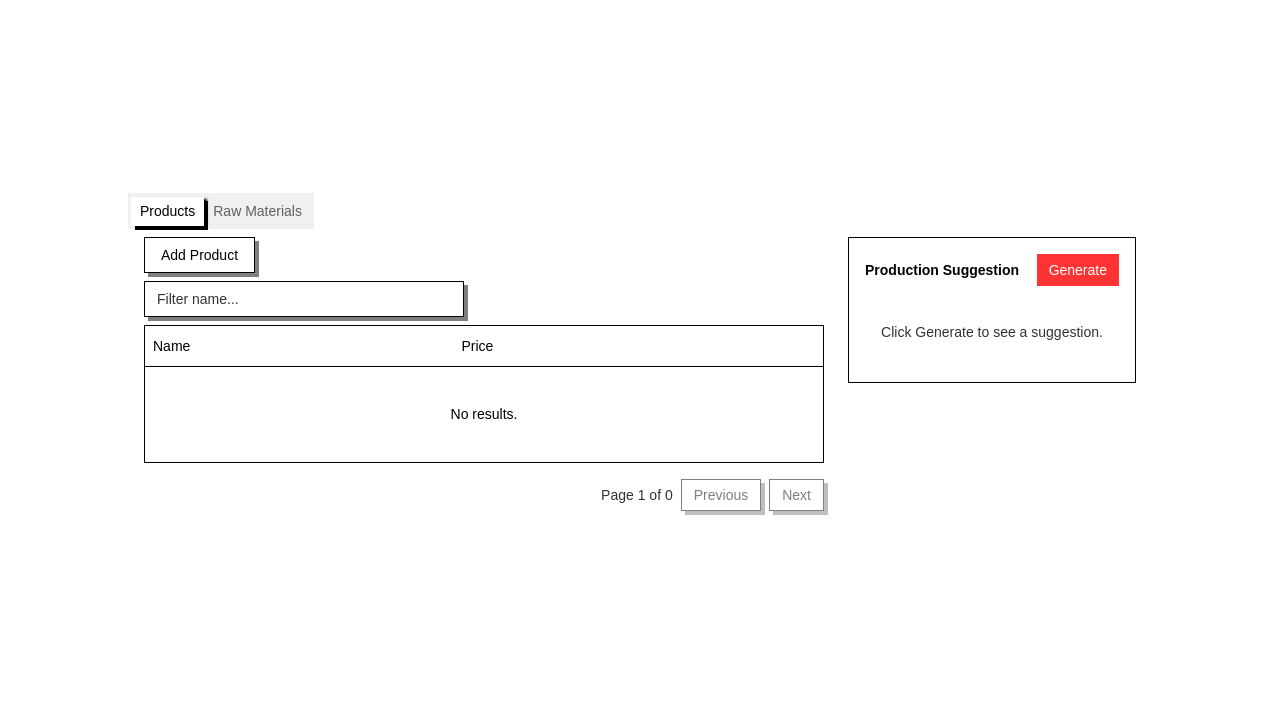
Create Raw Material › should show error when stock is empty
Click the tab with id "RawMaterialTrigger": coordinates (258, 212) [204,197,311,226]
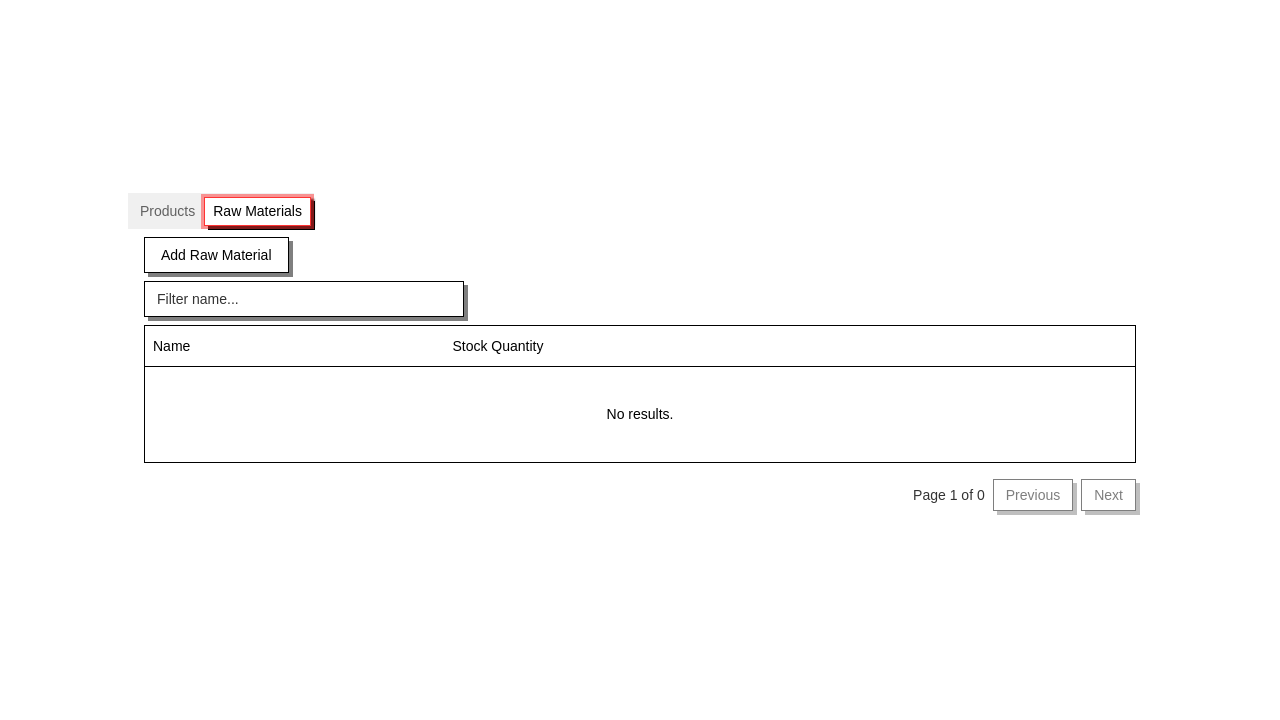
Click the button with id "AddRawMaterial": coordinates (217, 255) [144,237,289,273]
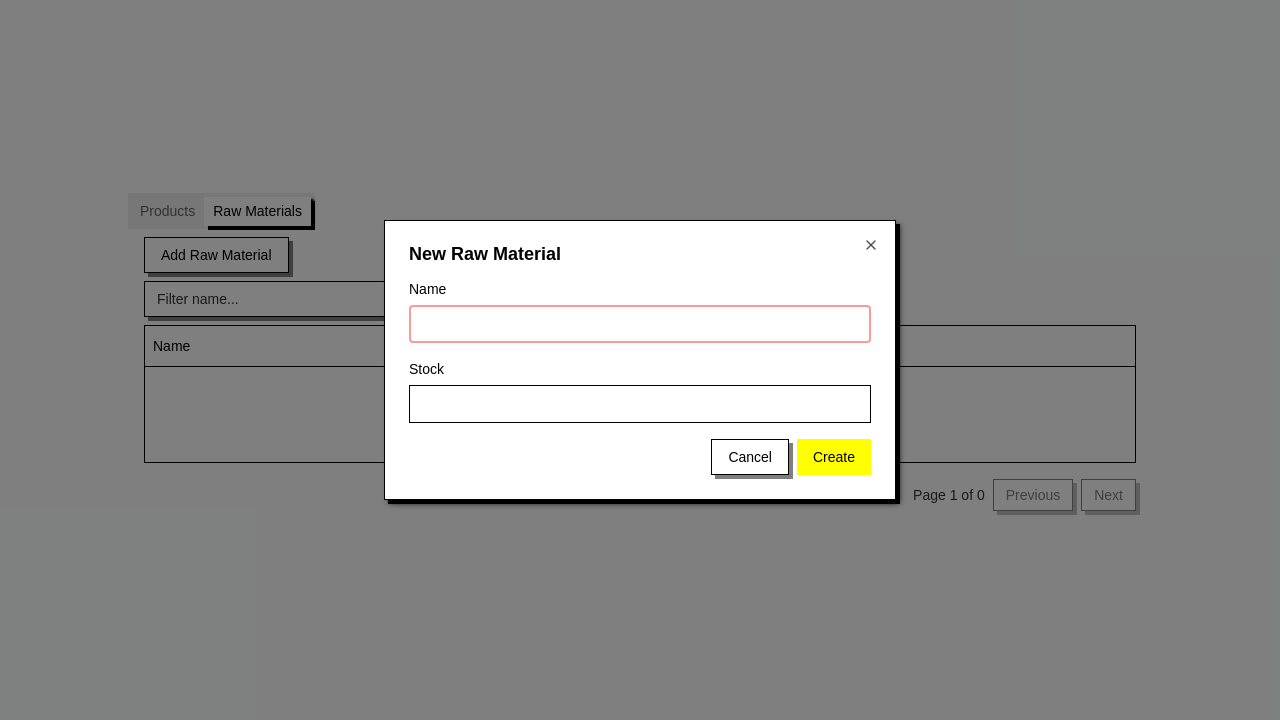
In the field with id "name": coordinates (640, 324) [409,305,871,343], type "madeira"
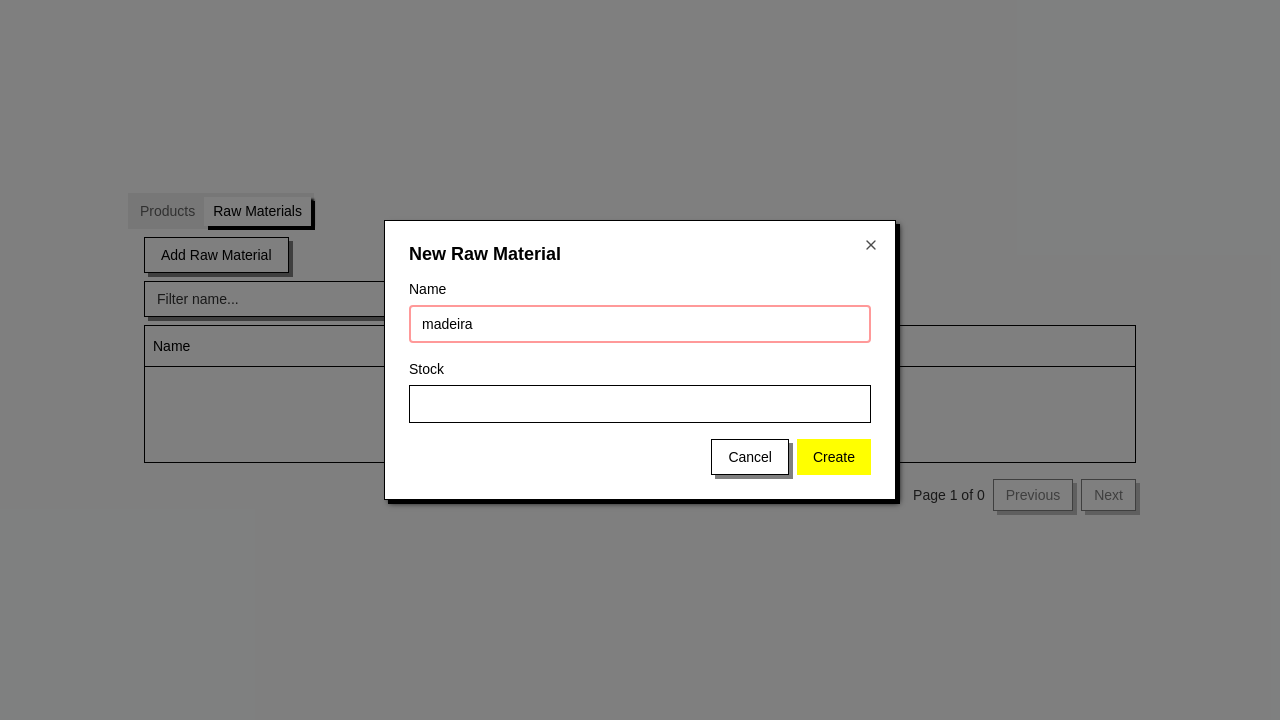
Click the button with id "btnSubmit": coordinates (834, 457) [797,439,871,475]
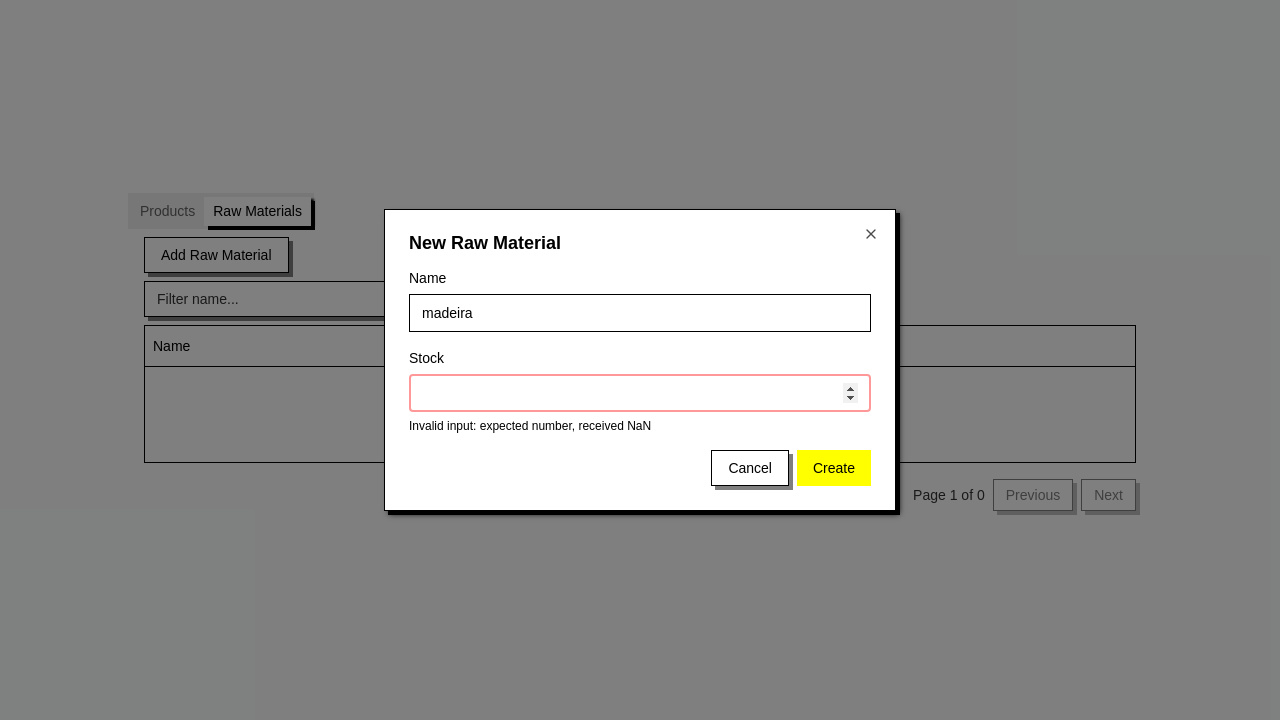
Result: the text "Invalid input: expected number, received NaN" is shown at [409,419,651,433]
